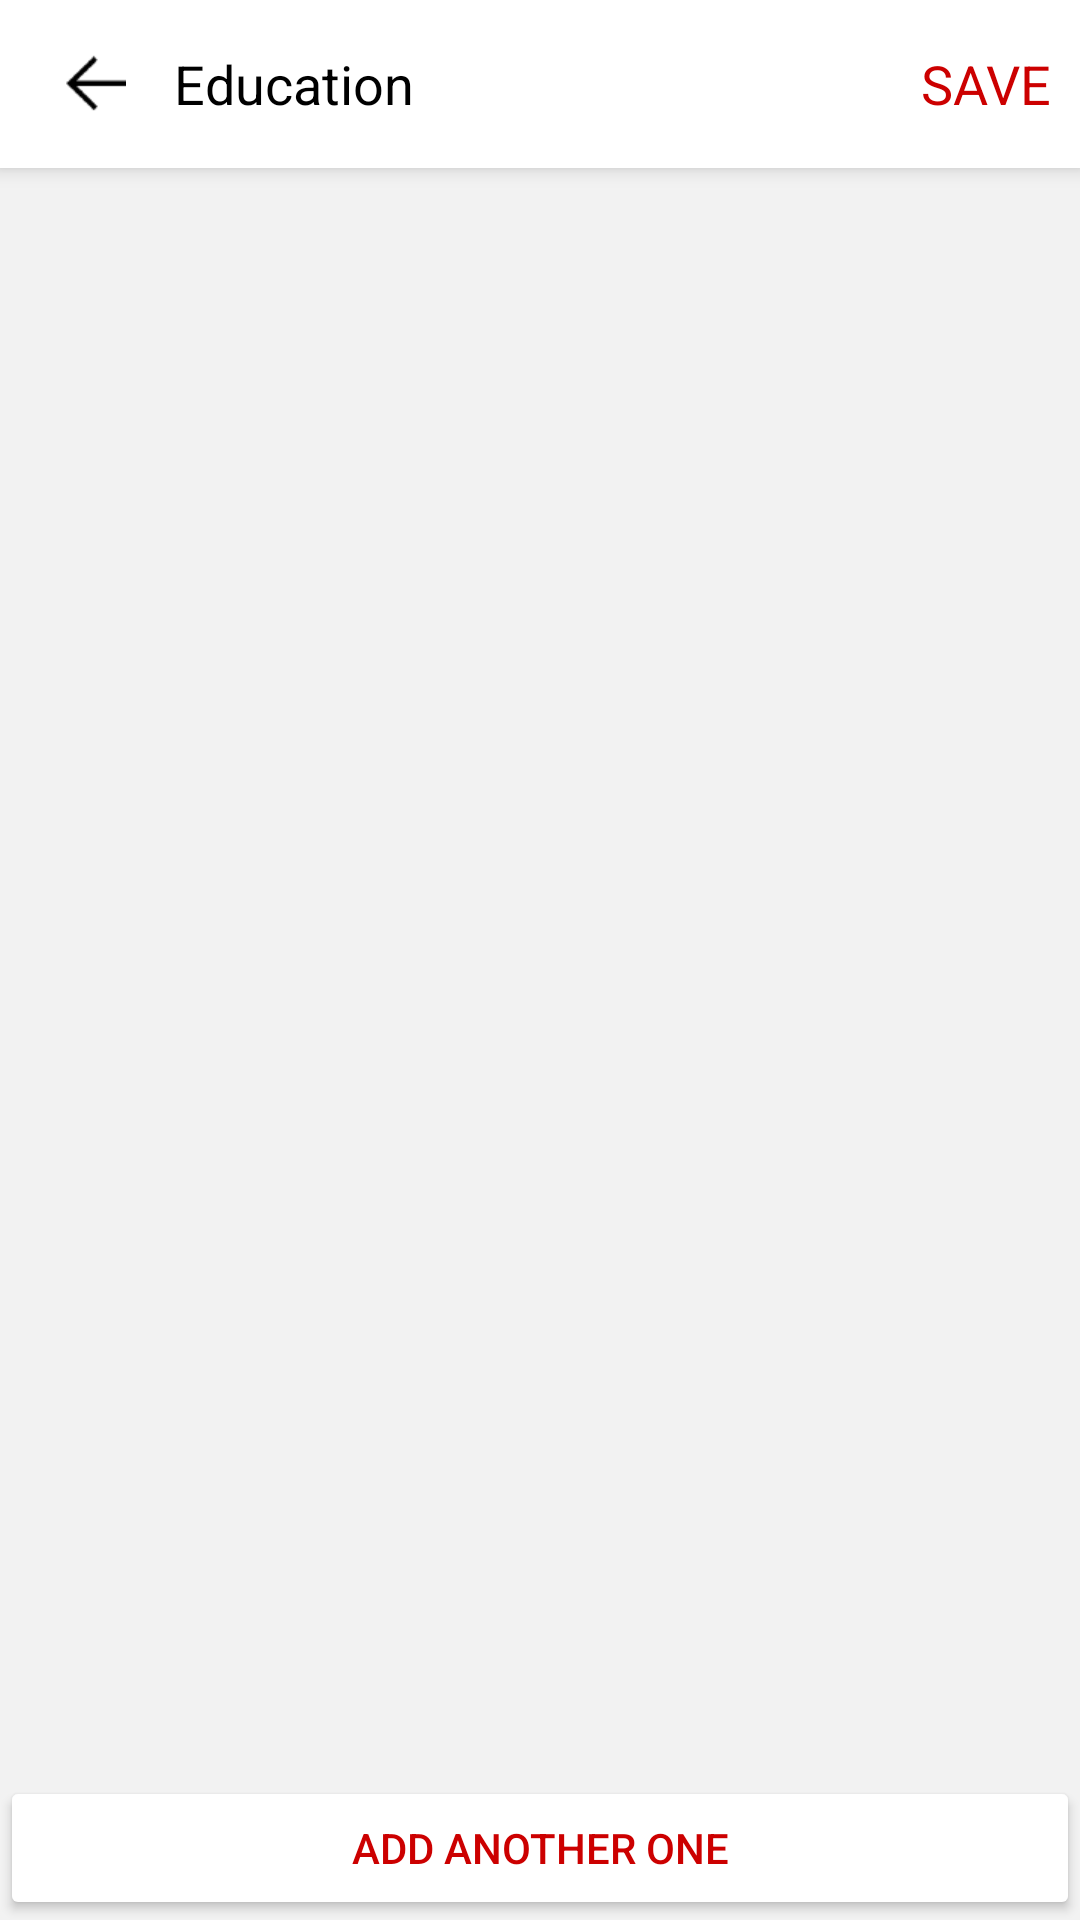

Icon click points for this 1080w x 1920h phone screenshot, format point (x, y):
back arrow: point (96, 83)
